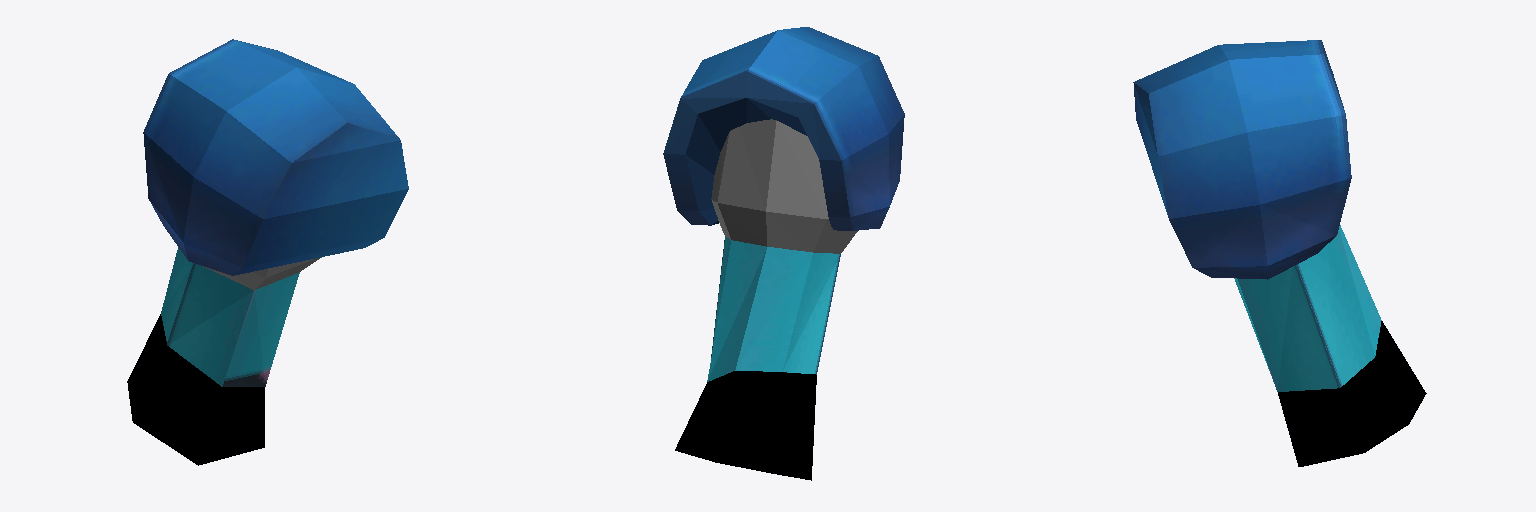
3 renders of one model, left to right at view 1: azimuth 30°, elevation 25°; view 2: azimuth 150°, elevation 25°; view 3: azimuth 270°, elevation 25°, orthographic.
Visible parts, largest first — view 1: Pierna_izquierda031, Pierna_izquierda029, Pierna_izquierda032, Pierna_izquierda030; view 2: Pierna_izquierda031, Pierna_izquierda029, Pierna_izquierda030, Pierna_izquierda032; view 3: Pierna_izquierda031, Pierna_izquierda029, Pierna_izquierda032.
Part boxes in pixels (left/top/right/bottom): Pierna_izquierda031: left=143, top=39, right=408, bottom=275; Pierna_izquierda029: left=161, top=247, right=299, bottom=386; Pierna_izquierda032: left=127, top=314, right=264, bottom=465; Pierna_izquierda030: left=203, top=257, right=321, bottom=289; Pierna_izquierda031: left=663, top=27, right=904, bottom=230; Pierna_izquierda029: left=707, top=237, right=840, bottom=381; Pierna_izquierda030: left=711, top=119, right=857, bottom=253; Pierna_izquierda032: left=675, top=371, right=816, bottom=480; Pierna_izquierda031: left=1133, top=40, right=1351, bottom=279; Pierna_izquierda029: left=1234, top=225, right=1381, bottom=391; Pierna_izquierda032: left=1278, top=321, right=1426, bottom=466.
Size of the model in its own units: 0.8752 by 1.75 by 1.14.
Materials: 3 (1 with a texture image).